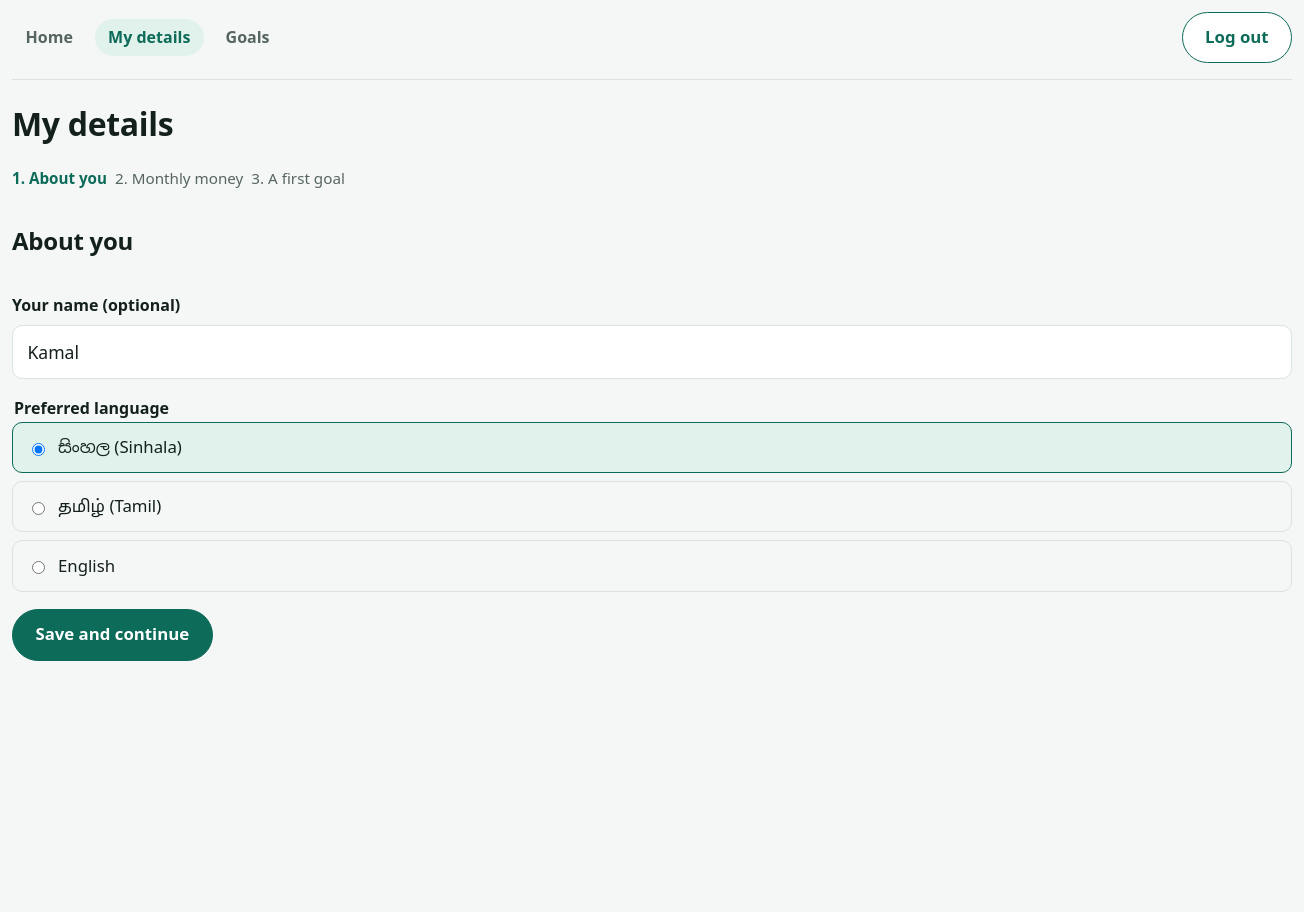
Test case: /onboarding › saves monthly amounts as decimal strings, tidying separators, keeping empty as null
Click the button "Save and continue": (112, 635) [12,609,213,661]
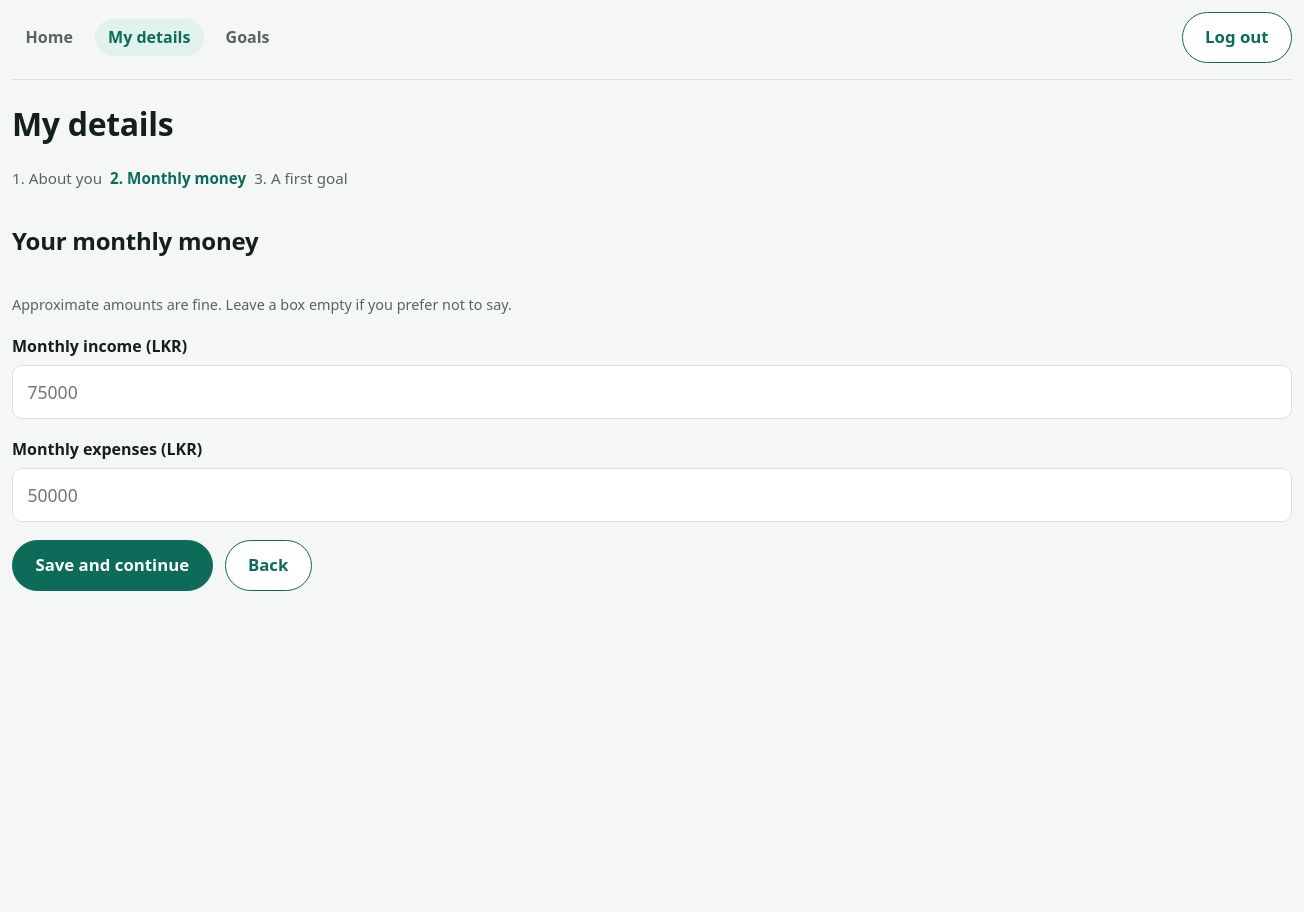
In the field labelled "Monthly income (LKR)": (652, 392) [12,365,1292,419], type "85,000.50"
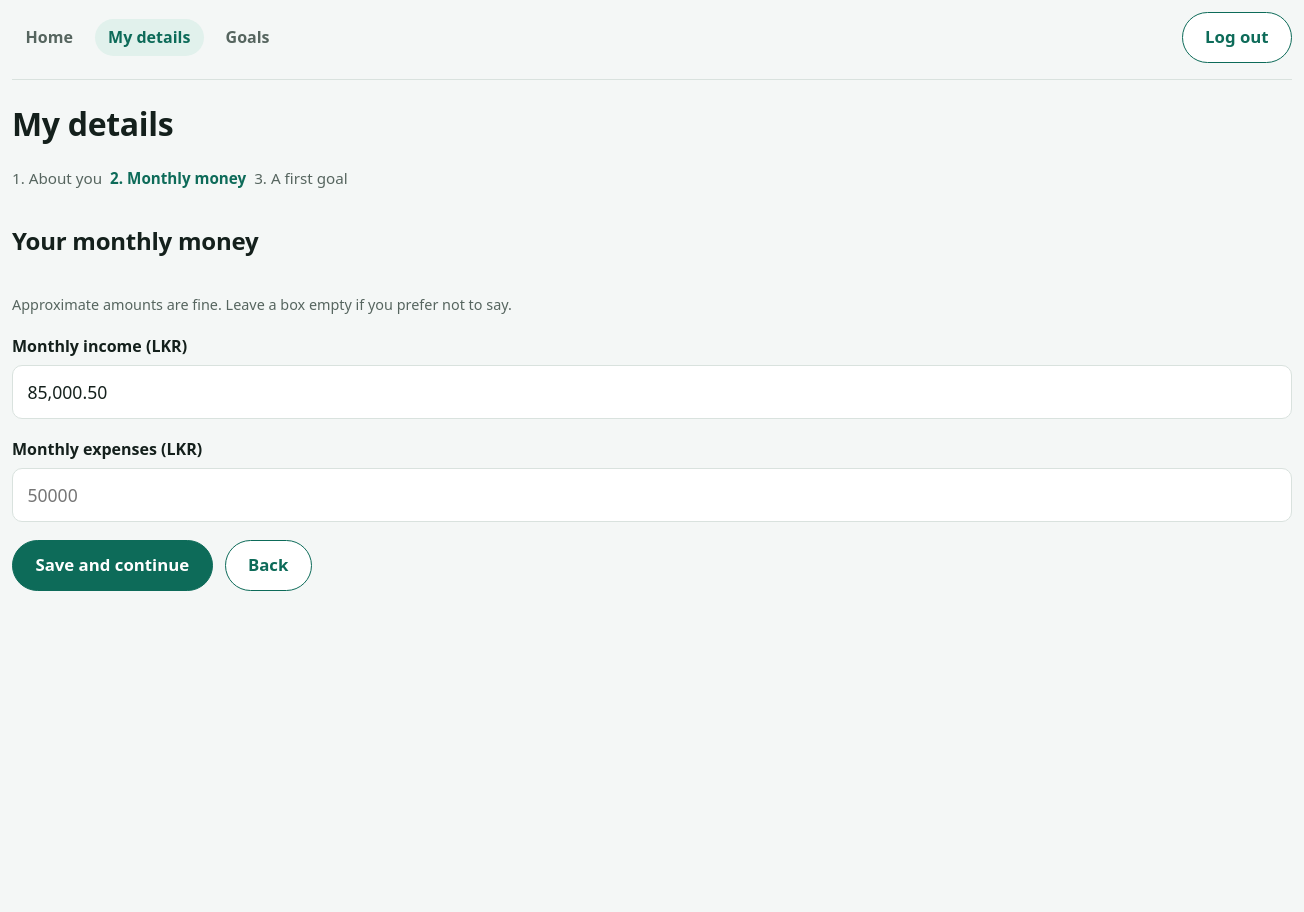
Click the button "Save and continue": (112, 566) [12,540,213,591]
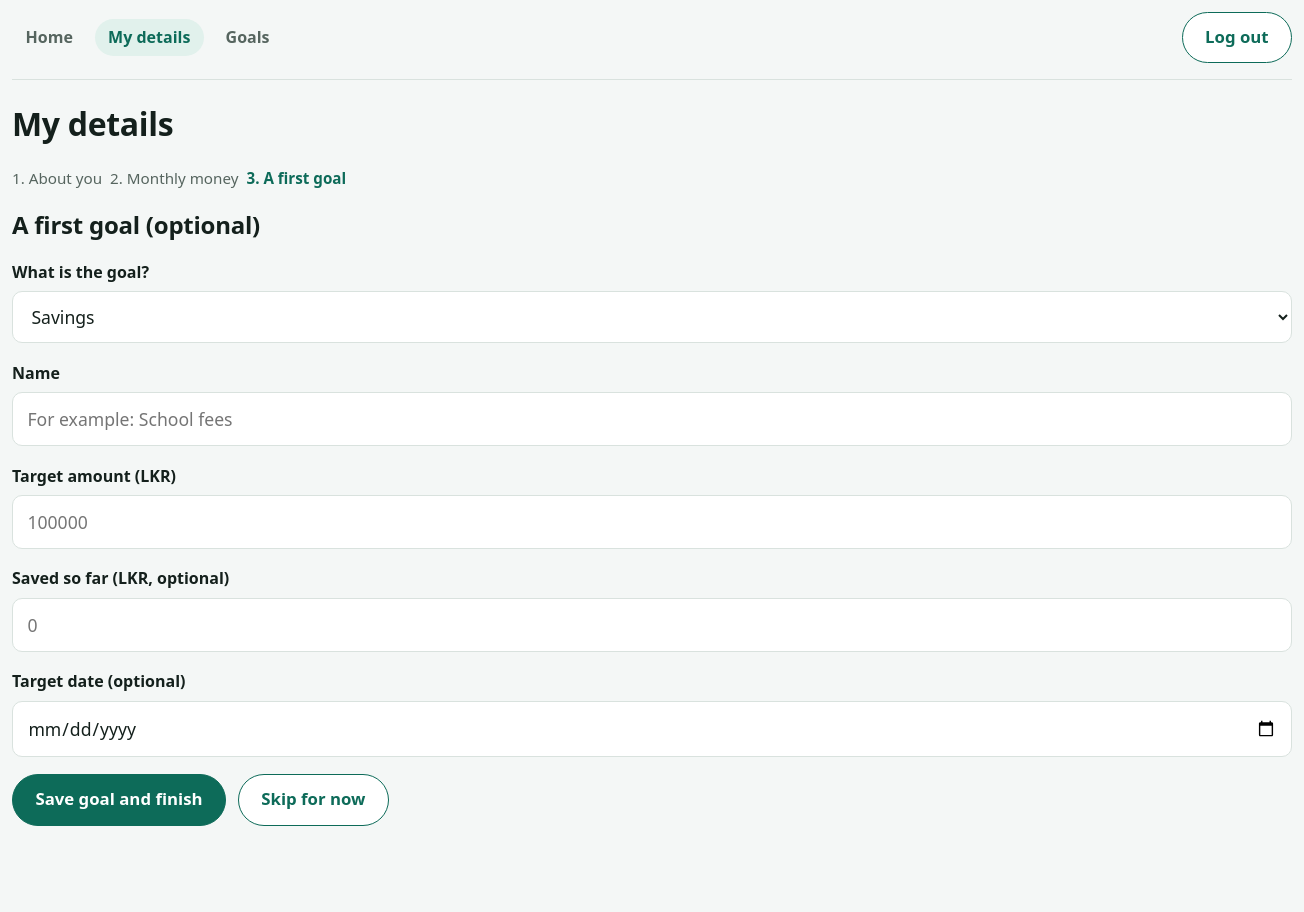
Now the heading "A first goal (optional)" is shown, box [12,208,260,241]
